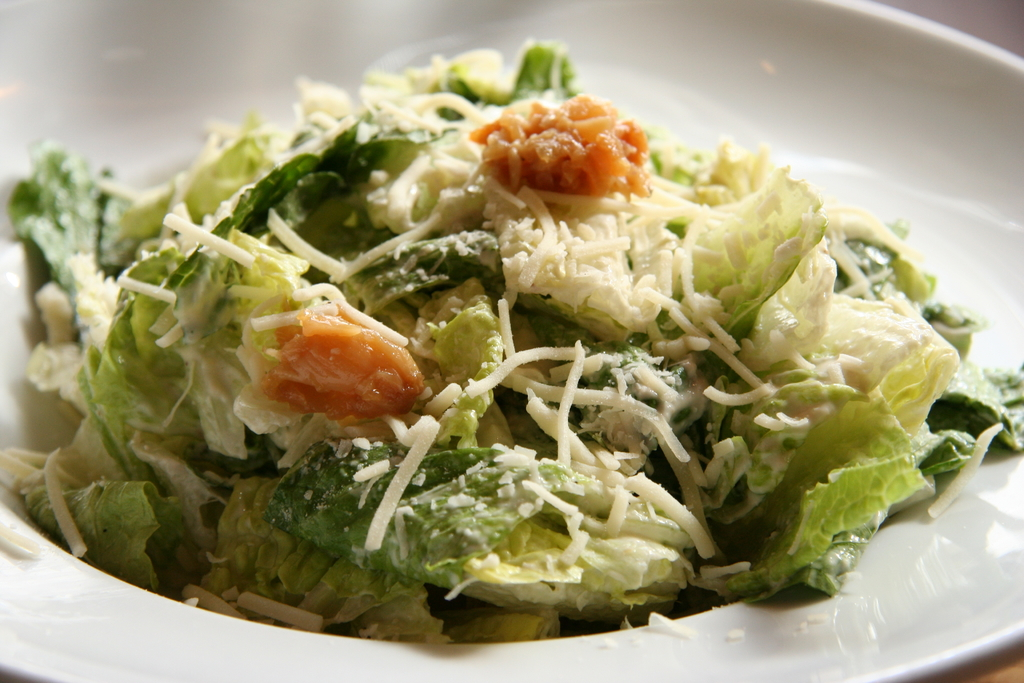salad: (6, 17, 1023, 641)
